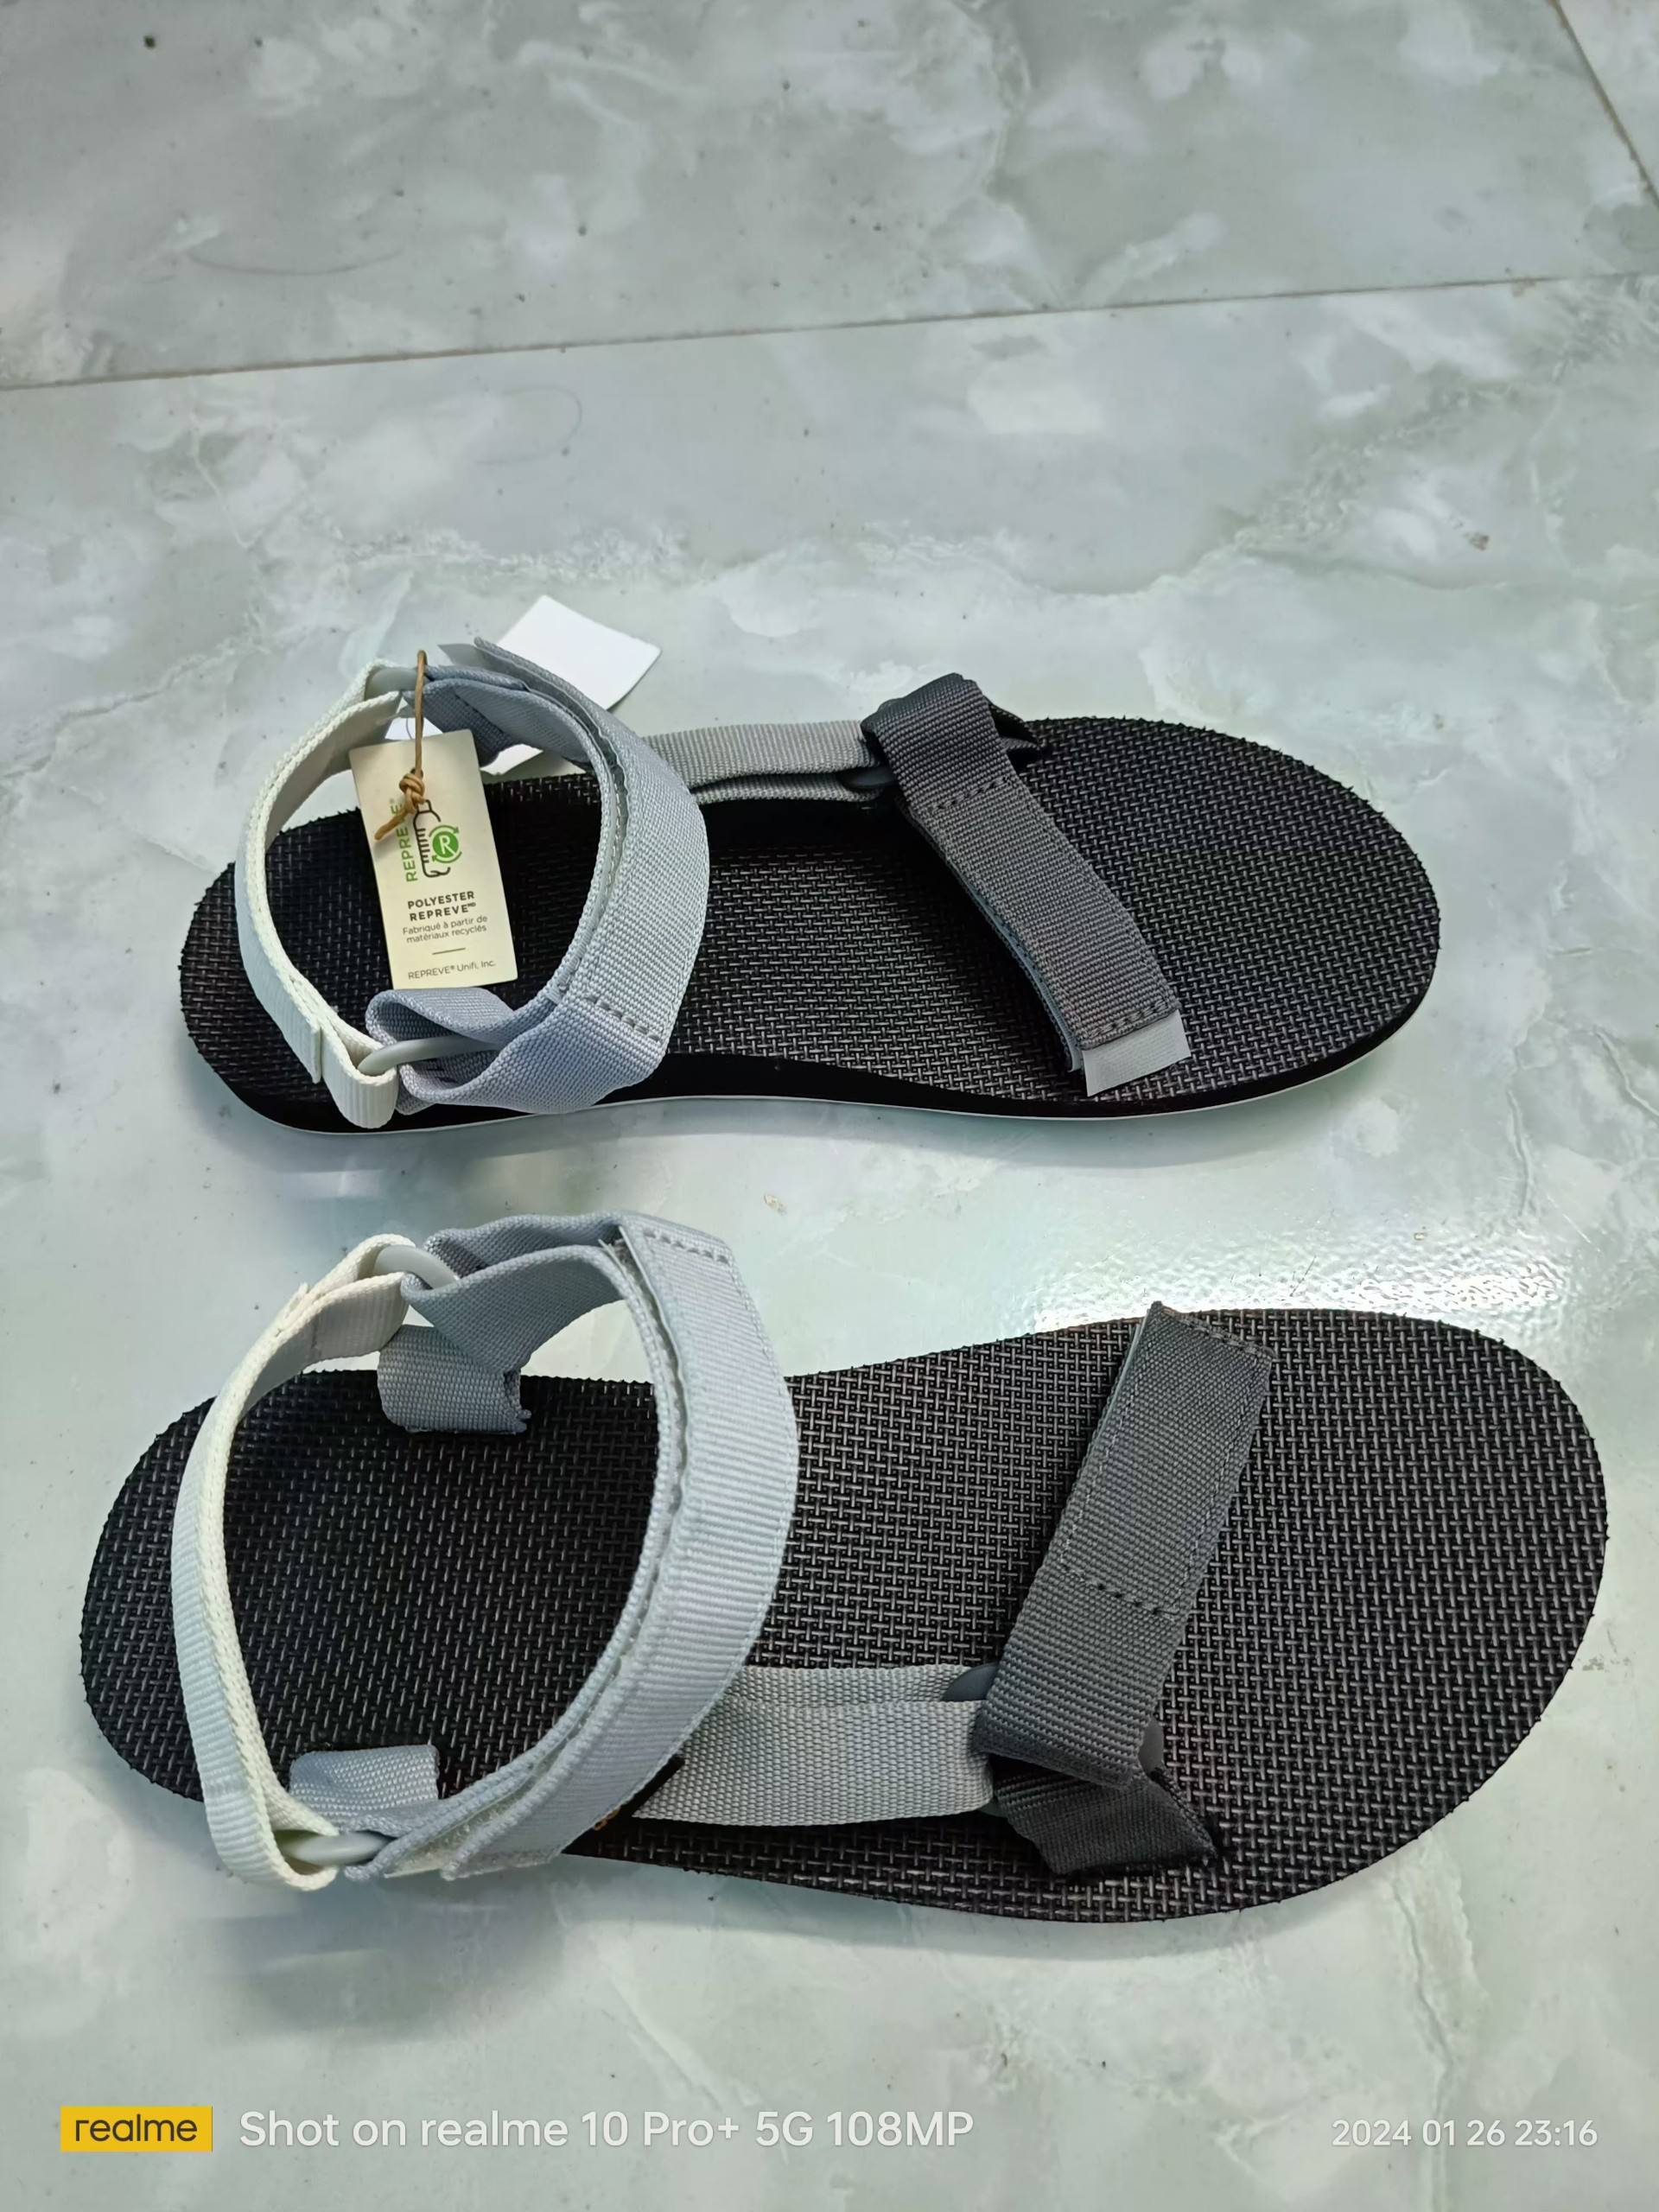sandals: (71, 1205, 1619, 1937), (178, 590, 1450, 1143)
